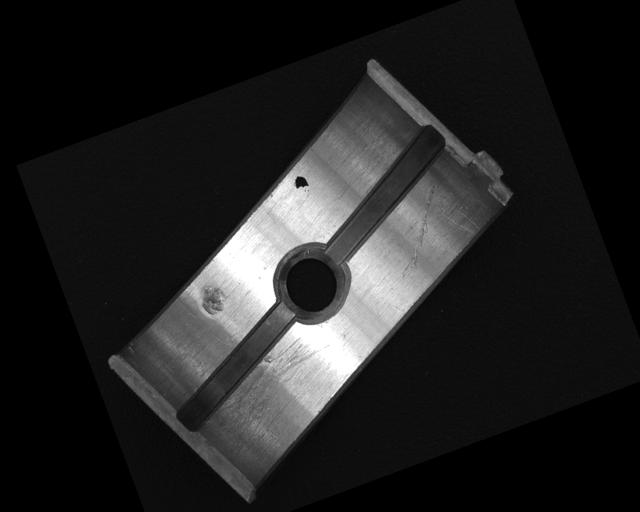blot: (291, 172, 310, 192)
bruise: (196, 281, 231, 318)
gap: (298, 121, 473, 267), (152, 301, 321, 436)
hole: (266, 235, 359, 332)
nick: (374, 181, 464, 280)
scratch: (188, 325, 360, 468)
